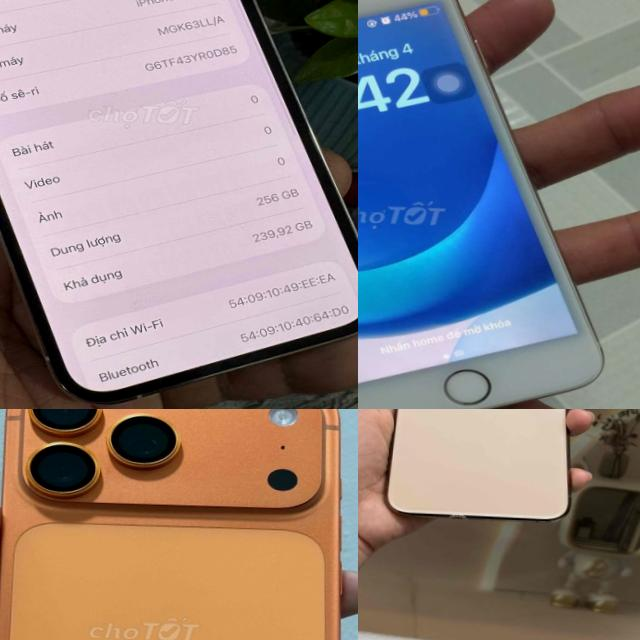gen_11: (386, 409, 569, 520)
gen_12_13: (0, 0, 358, 408)
gen_17: (0, 409, 358, 640)
gen_7_8: (358, 0, 637, 409)
